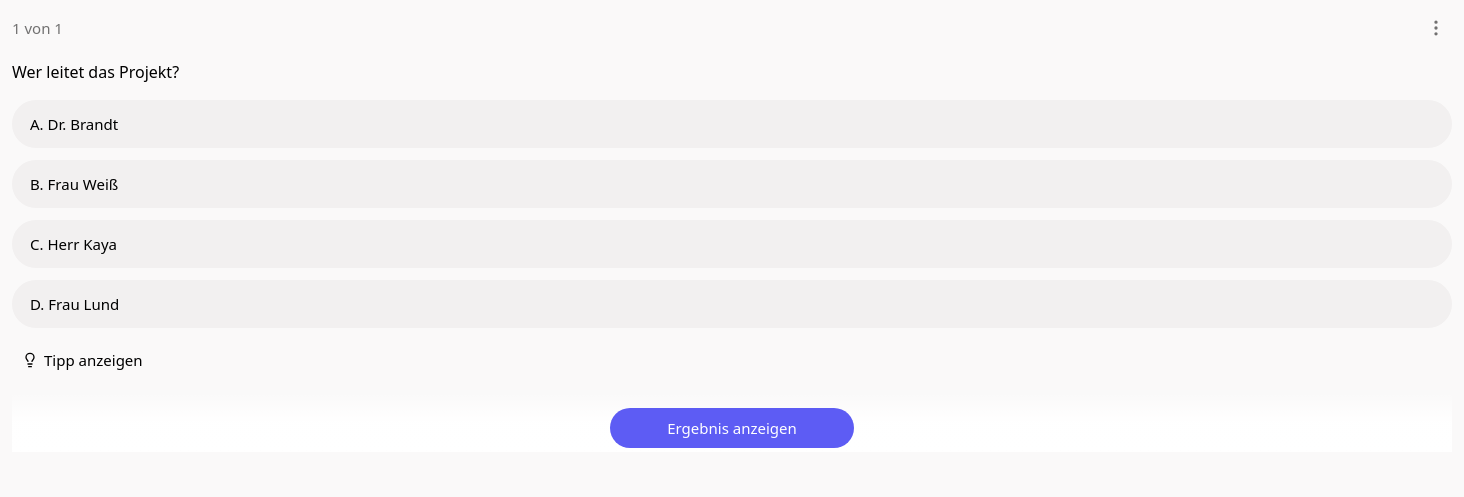
QuizView › shows the hint on request, before an answer
Check: the text "Der Name steht im ersten Satz." is not shown
Click the button "Tipp anzeigen" at {"x": 82, "y": 360}, box [12,344,153,376]
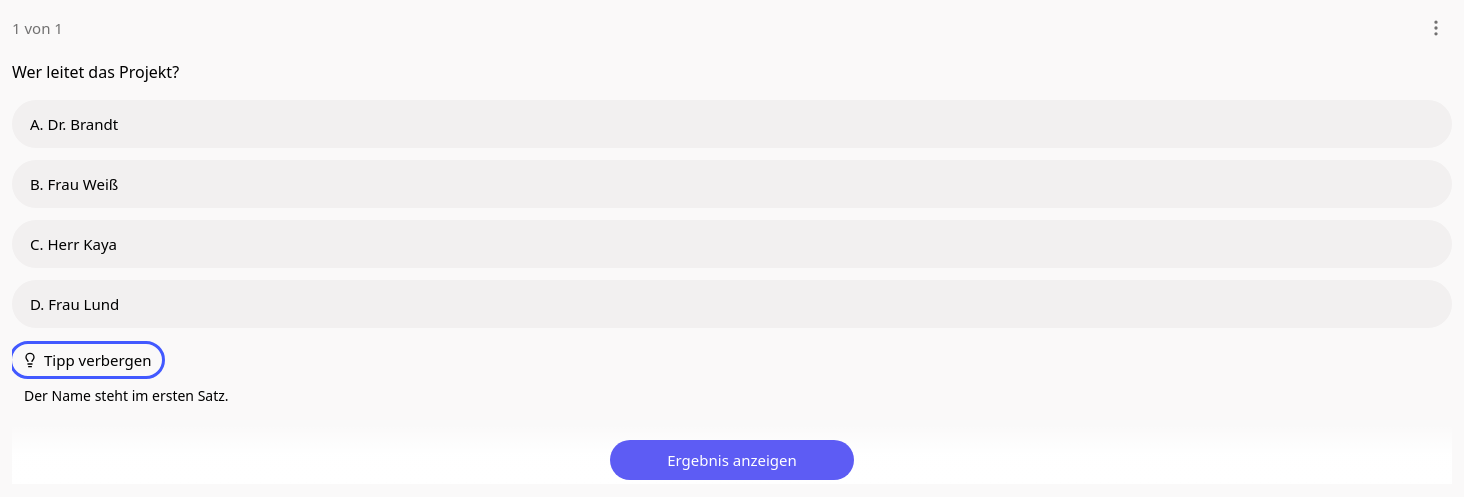
Check: the text "Der Name steht im ersten Satz." is shown, box [12,384,241,408]
